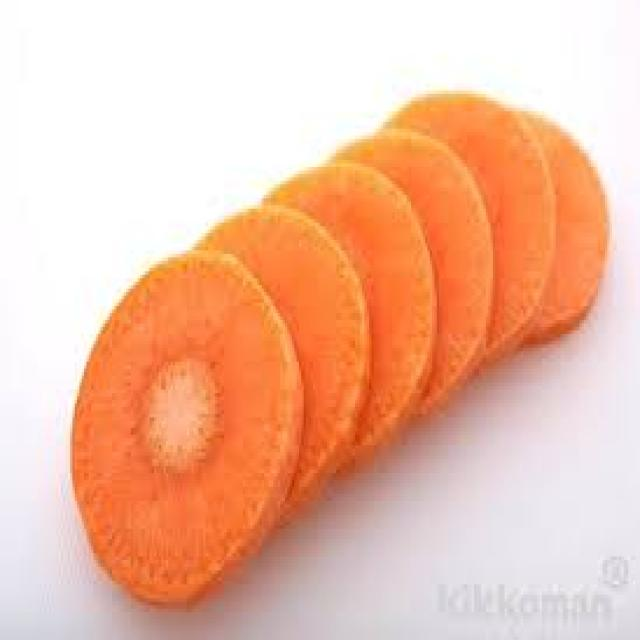Carrot: (73, 246, 300, 609), (185, 197, 365, 500), (270, 157, 428, 455), (391, 78, 547, 362), (339, 124, 481, 418), (526, 96, 606, 370)
